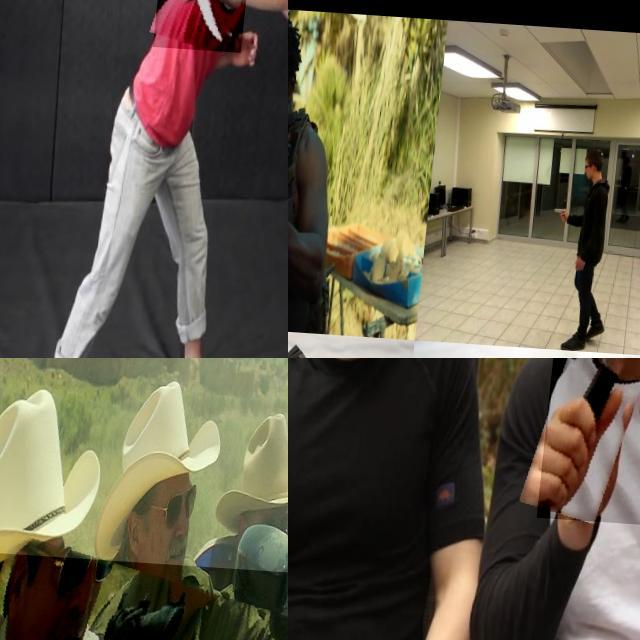-: (547, 358, 640, 545), (158, 0, 254, 55)
gun-knife-thesis - v11 Yolov5 augmented: (0, 549, 288, 640), (288, 119, 323, 300), (554, 196, 570, 214)
